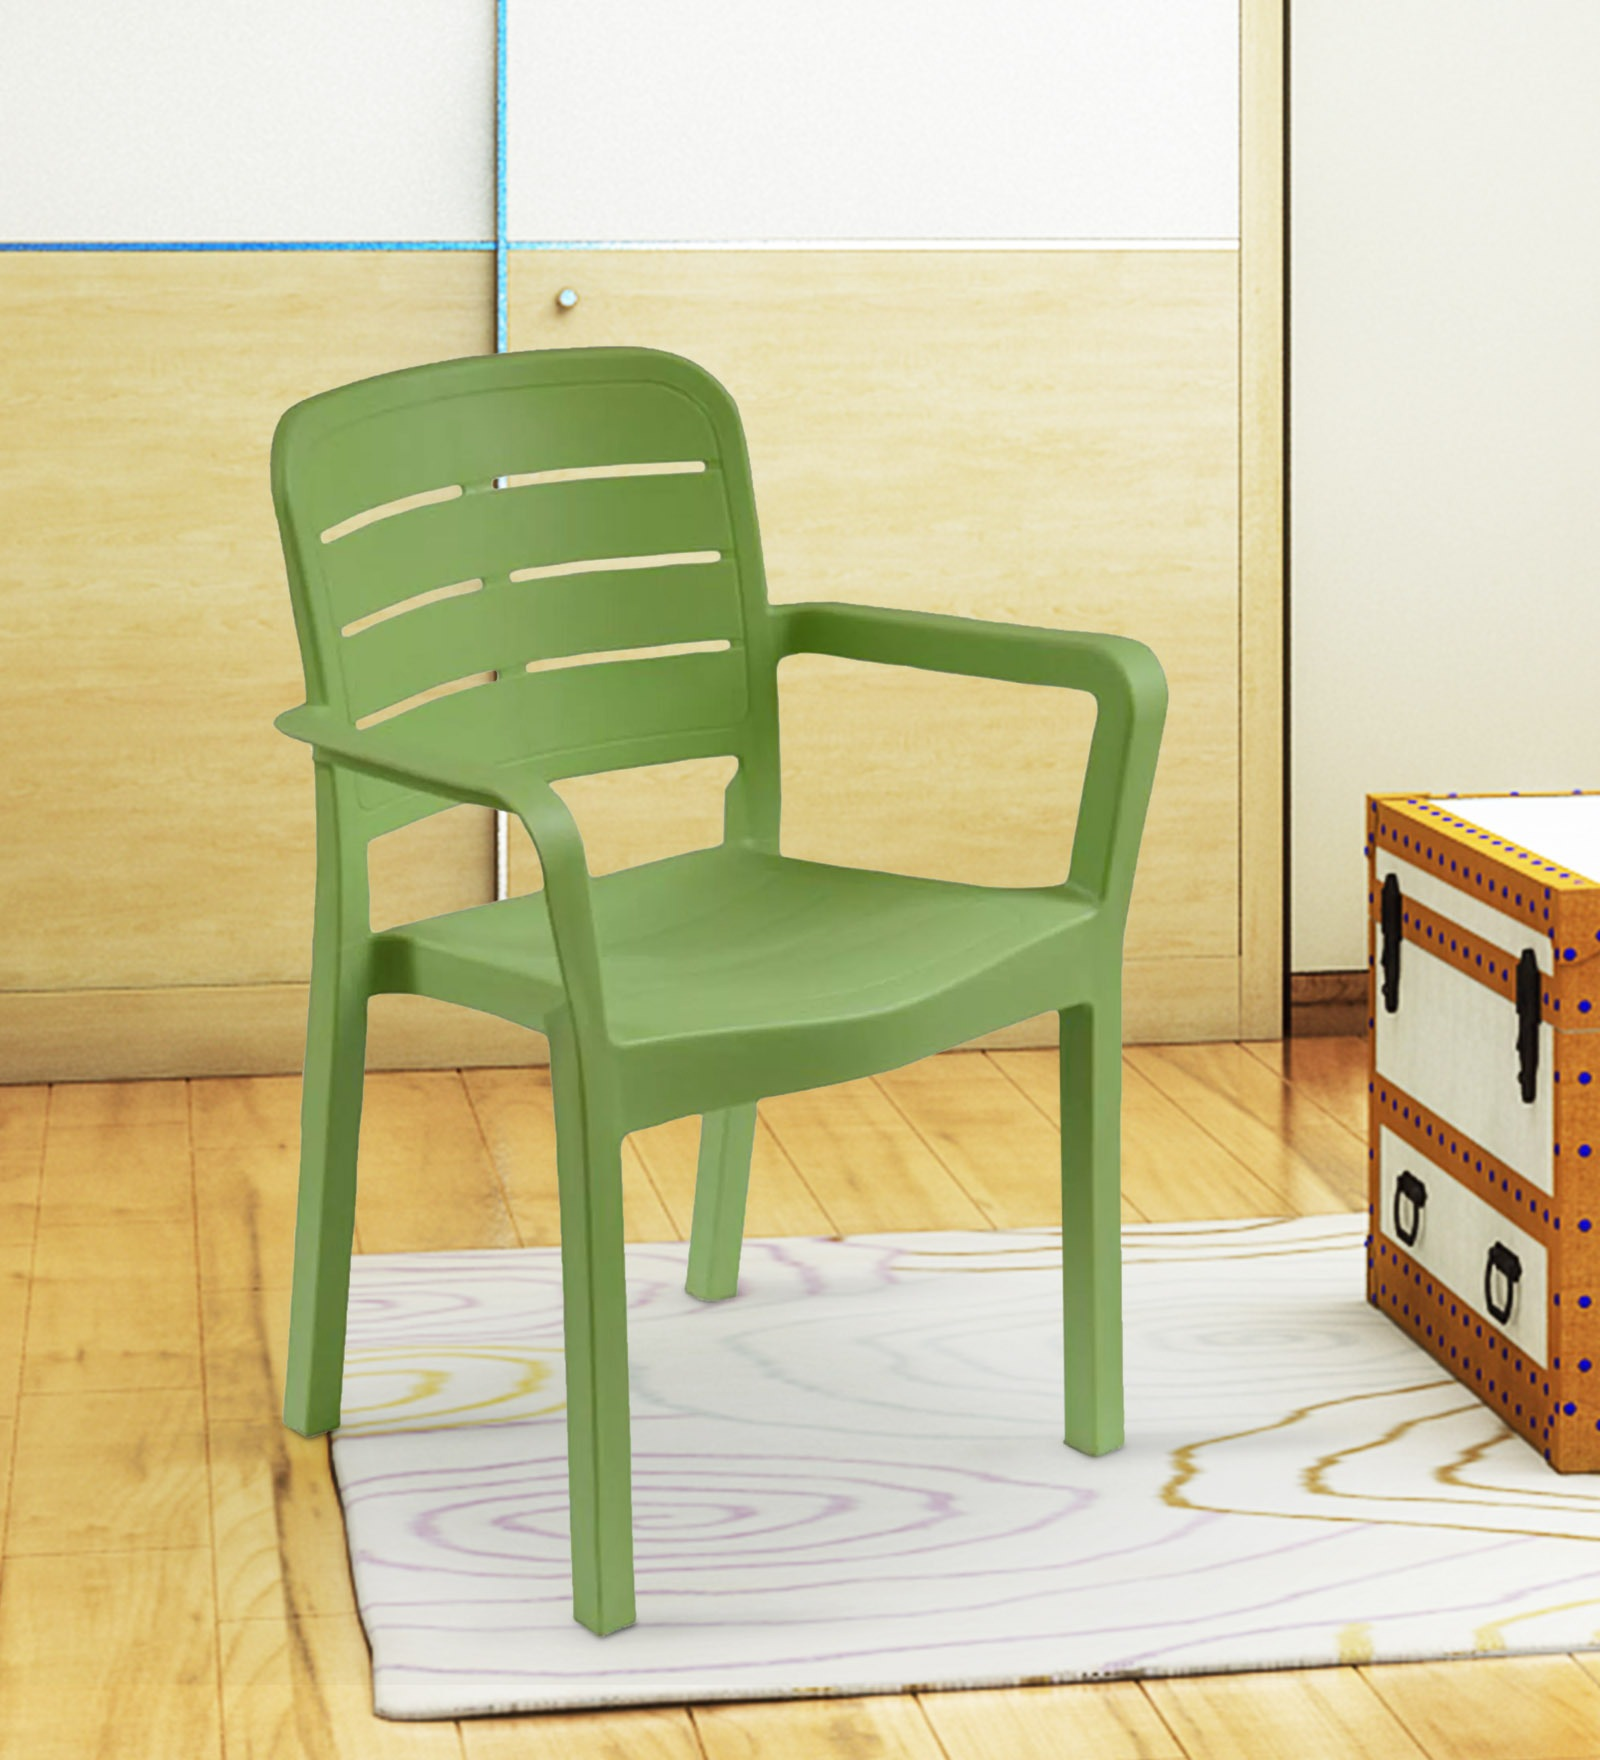Luxury Plastic Chair in Green Colour by Italica Furniture: (262, 343, 1180, 1633)
